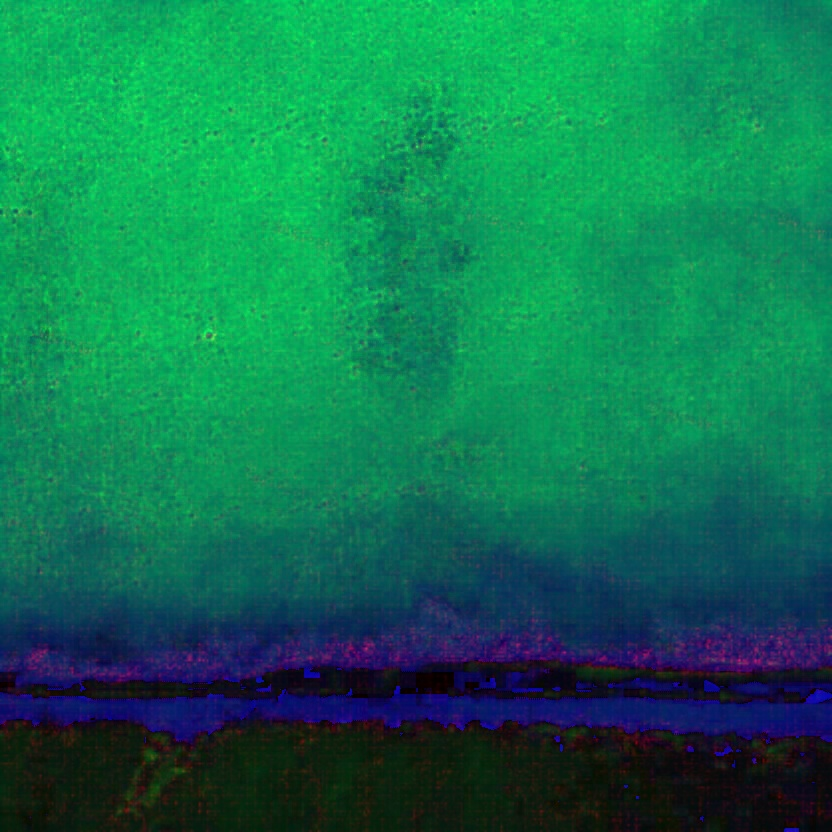rip_current: (299, 128, 532, 596)
